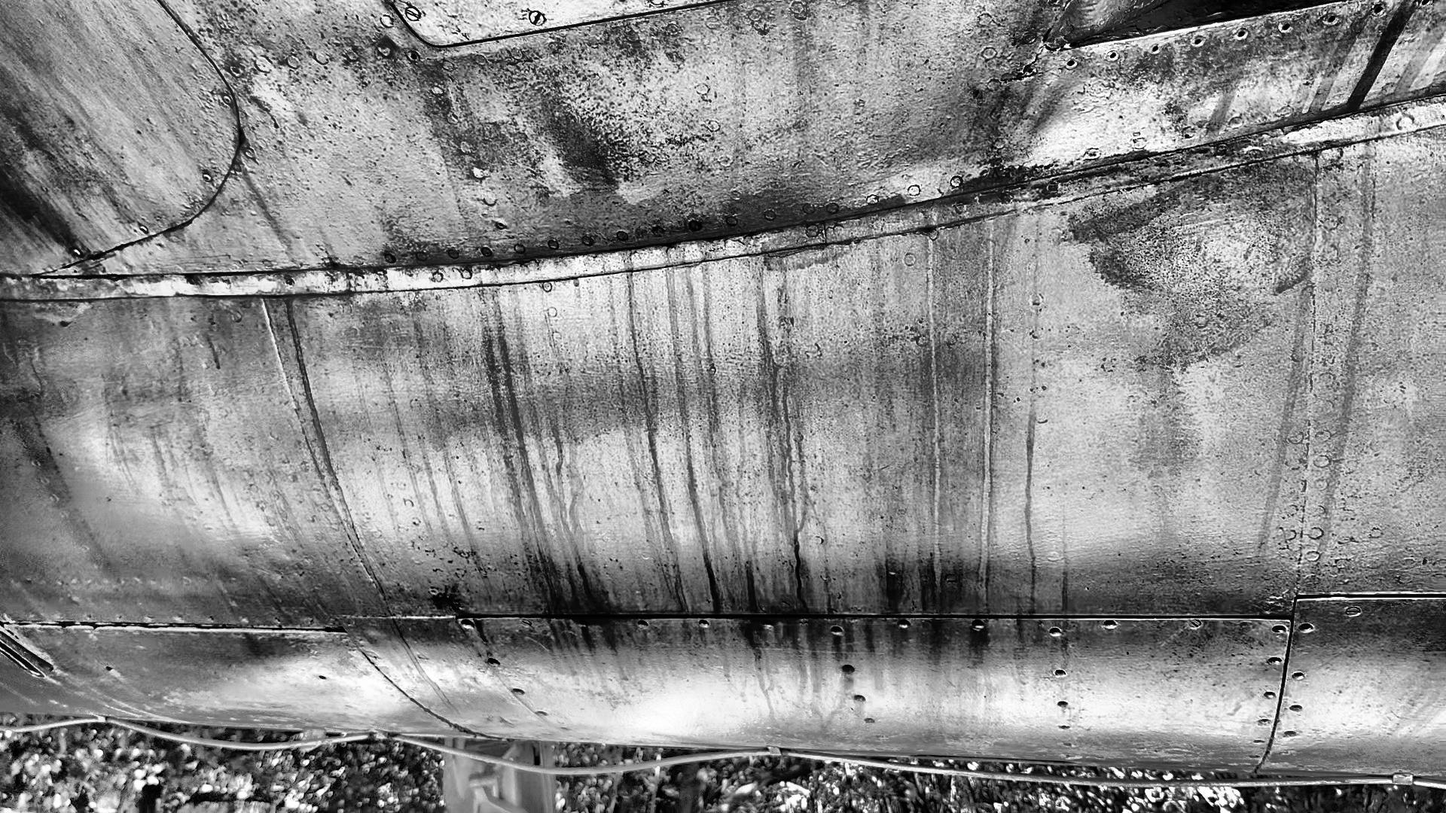missing-head: (1297, 619, 1316, 636), (1290, 666, 1309, 683), (1271, 619, 1288, 638), (1098, 617, 1122, 630), (456, 617, 478, 630), (510, 685, 529, 700), (842, 659, 857, 676), (898, 615, 913, 632), (1288, 700, 1305, 715), (1261, 687, 1277, 702), (1054, 662, 1068, 679), (1267, 651, 1282, 666), (972, 615, 988, 629), (486, 657, 503, 670), (828, 623, 845, 636), (1064, 56, 1079, 70), (1277, 21, 1292, 34), (1049, 623, 1064, 636), (1107, 47, 1118, 64), (1150, 41, 1162, 56), (636, 617, 651, 629), (1326, 13, 1339, 26), (1373, 2, 1384, 17), (763, 614, 774, 629), (1192, 36, 1203, 49), (1056, 700, 1071, 709), (1235, 30, 1246, 41)
